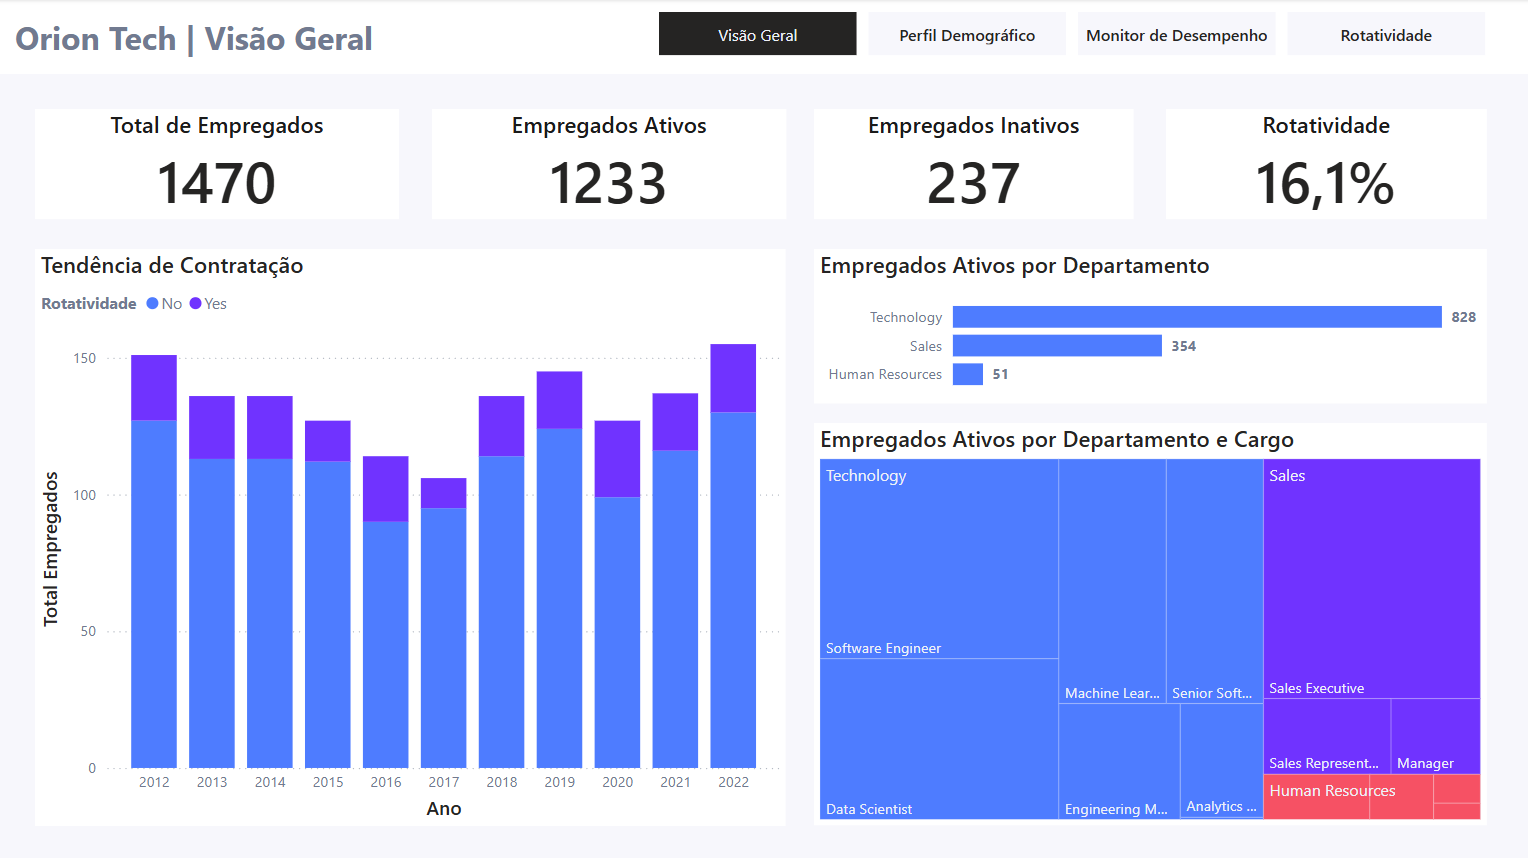

The dashboard page shown, as its layout file describes it:
{"tool":"powerbi","page":{"name":"Visão Geral","canvas":[1280,720],"ordinal":0},"visuals":[{"type":"shape","box":[0,0,1279.8,62.6],"z":0},{"type":"card","title":"Total de Empregados","fields":{"Values":["_Measures.TotalEmployees"]},"box":[30.3,91.9,304,91.9],"z":1000},{"type":"card","title":"Empregados Ativos","fields":{"Values":["_Measures.ActiveEmployees"]},"box":[361.6,91.9,296,91.9],"z":2000},{"type":"card","title":"Empregados Inativos","fields":{"Values":["_Measures.InactiveEmployees"]},"box":[680.8,91.9,266.7,91.9],"z":3000},{"type":"card","title":"Rotatividade","fields":{"Values":["_Measures.% Attrition Rate"]},"box":[974.7,91.9,267.7,91.9],"z":4000},{"type":"columnChart","title":"Tendência de Contratação","fields":{"Category":["DimDate.Date.Variation.Date Hierarchy.Year","DimDate.Date.Variation.Date Hierarchy.Quarter","DimDate.Date.Variation.Date Hierarchy.Month","DimDate.Date.Variation.Date Hierarchy.Day"],"Y":["_Measures.TotalEmployeesDate"],"Series":["DimEmployee.Attrition"]},"box":[30.3,209.1,627.3,481.8],"z":5000},{"type":"clusteredBarChart","title":"Empregados Ativos por Departamento","fields":{"Y":["_Measures.ActiveEmployees"],"Category":["DimEmployee.Department"]},"box":[680.8,209.1,561.6,129.3],"z":6000},{"type":"treemap","title":"Empregados Ativos por Departamento e Cargo","fields":{"Group":["DimEmployee.Department"],"Values":["_Measures.ActiveEmployees"],"Details":["DimEmployee.JobRole"]},"box":[680.8,354.5,561.6,336.4],"z":7000},{"type":"pageNavigator","box":[551.5,11.1,690.9,36.4],"z":8000},{"type":"textbox","box":[8,8,352,48],"z":9000}]}

Visuals, with their boxes in screenshot pixels (x1, y1, x2, y2), scaled from the page's 1280x720 canvas onto the 1528x858 screenshot:
shape: x1=0, y1=0, x2=1527, y2=75
"Total de Empregados" card: x1=36, y1=110, x2=399, y2=219
"Empregados Ativos" card: x1=432, y1=110, x2=785, y2=219
"Empregados Inativos" card: x1=813, y1=110, x2=1131, y2=219
"Rotatividade" card: x1=1164, y1=110, x2=1483, y2=219
"Tendência de Contratação" columnChart: x1=36, y1=249, x2=785, y2=823
"Empregados Ativos por Departamento" clusteredBarChart: x1=813, y1=249, x2=1483, y2=403
"Empregados Ativos por Departamento e Cargo" treemap: x1=813, y1=422, x2=1483, y2=823
pageNavigator: x1=658, y1=13, x2=1483, y2=57
textbox: x1=10, y1=10, x2=430, y2=67
